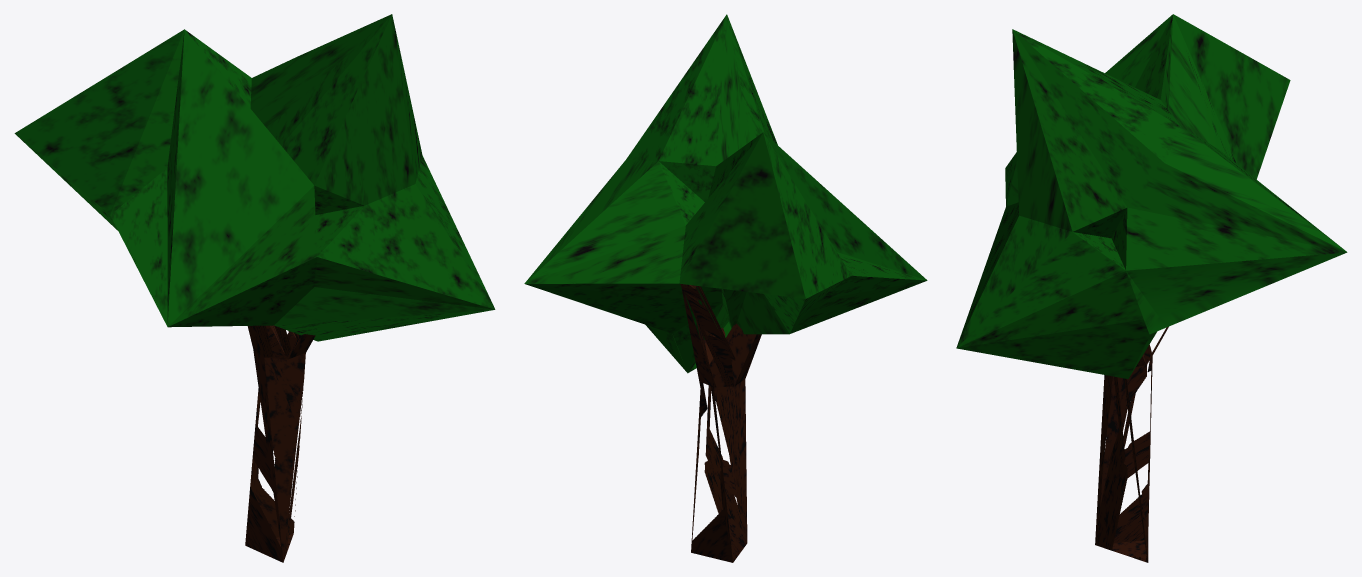
File: TreeVeryFar.fbx
The picture shows the model from 3 angles, left to right: view 1: azimuth 30°, elevation 25°; view 2: azimuth 150°, elevation 25°; view 3: azimuth 270°, elevation 25°; orthographic projection. The views are drawn at different scales.
Visible parts, largest first — view 1: Leaves, Trunk; view 2: Leaves, Trunk; view 3: Leaves, Trunk.
Boxes of the visible parts, x1=… form: Leaves: x1=14, y1=14, x2=495, y2=341; Trunk: x1=245, y1=325, x2=315, y2=562; Leaves: x1=524, y1=14, x2=927, y2=373; Trunk: x1=680, y1=284, x2=761, y2=562; Leaves: x1=956, y1=14, x2=1347, y2=378; Trunk: x1=1095, y1=326, x2=1168, y2=562.
Size of the model in its own units: 326 by 565 by 366.
2 materials, 2 textured.
